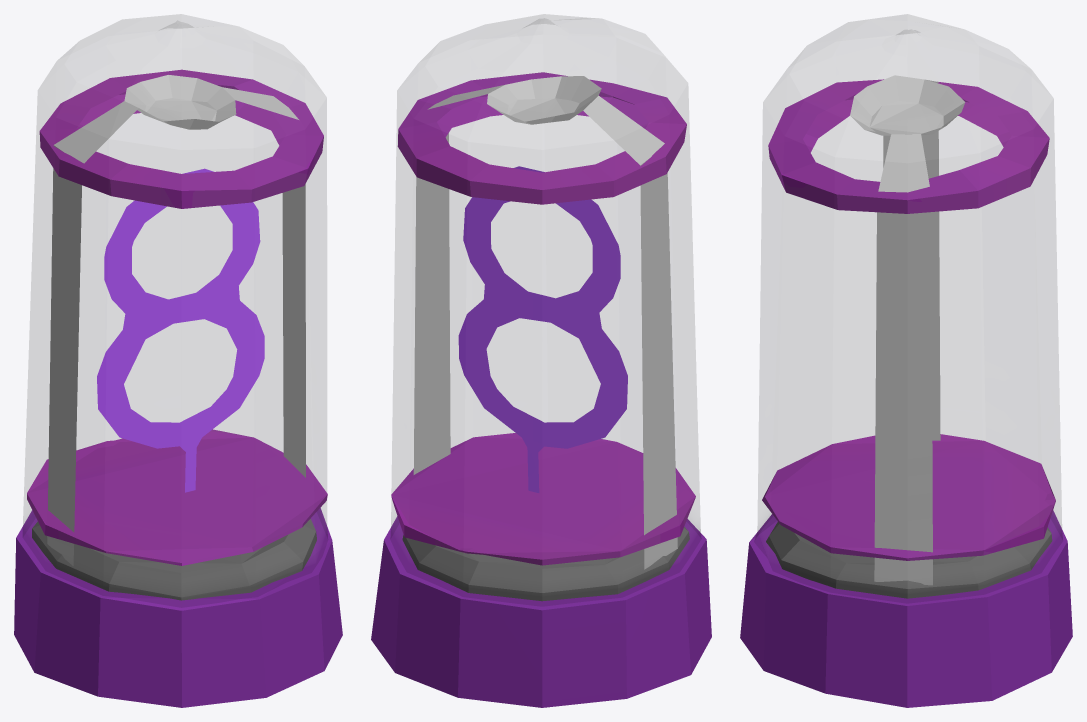
File: obj_num08_alt.gltf
The picture shows the model from 3 angles, left to right: view 1: azimuth 30°, elevation 25°; view 2: azimuth 150°, elevation 25°; view 3: azimuth 270°, elevation 25°; orthographic projection.
Visible parts, largest first — view 1: obj_num08_alt; view 2: obj_num08_alt; view 3: obj_num08_alt.
Boxes of the visible parts, x1,y1,x2,y2 form: obj_num08_alt: (14, 14, 342, 707); obj_num08_alt: (371, 14, 711, 707); obj_num08_alt: (740, 14, 1072, 707).
Size of what is drawn, in the model's own units: 0.3542 by 0.717 by 0.355.
Materials: 2 (2 with a texture image).
